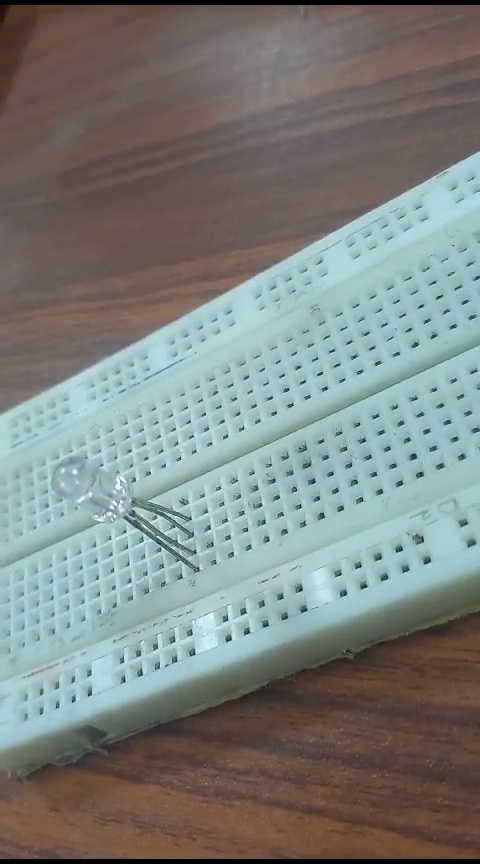LED: (46, 452, 211, 568)
